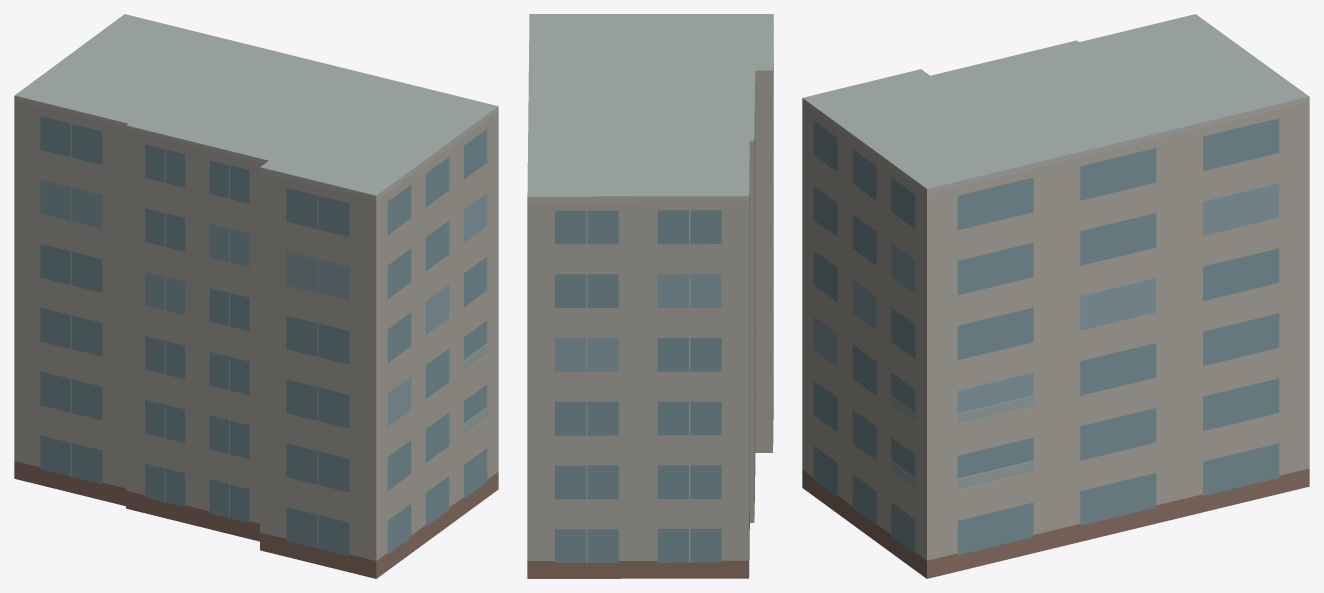
Rendered from survey-upis-33046510.glb.
3 renders of one model, left to right at view 1: azimuth 30°, elevation 25°; view 2: azimuth 150°, elevation 25°; view 3: azimuth 270°, elevation 25°, orthographic. The views are drawn at different scales.
Visible parts, largest first — view 1: survey-upis-33046510.tmp; view 2: survey-upis-33046510.tmp; view 3: survey-upis-33046510.tmp.
Boxes of the visible parts, x1,y1,x2,y2 form: survey-upis-33046510.tmp: (14,14,498,578); survey-upis-33046510.tmp: (527,14,773,578); survey-upis-33046510.tmp: (802,14,1309,578).
Bounding box in the file's own units: 17.61 × 18.3 × 21.58.
